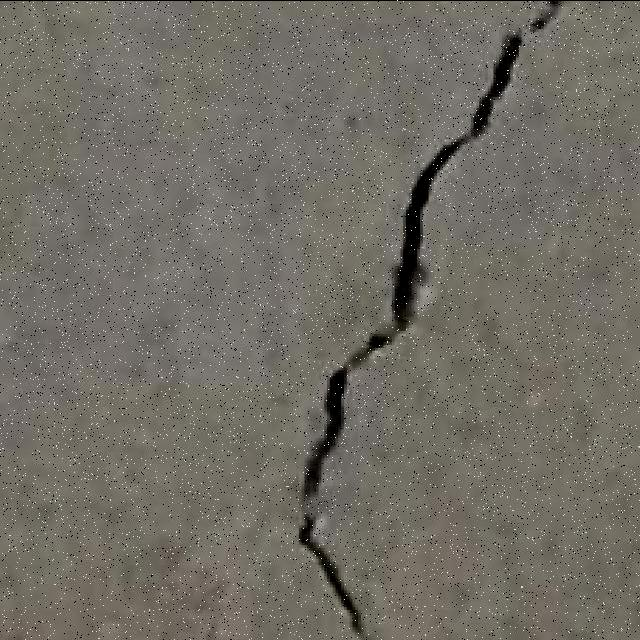crack: (295, 1, 561, 636), (470, 4, 564, 141)
